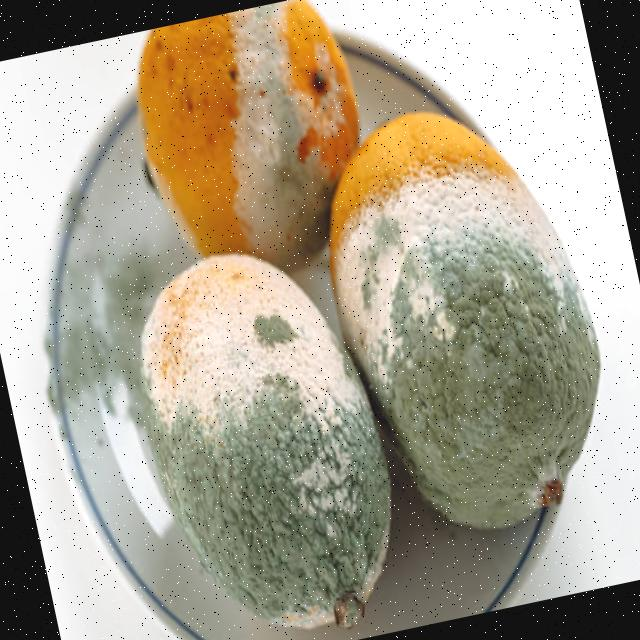Rotten: (298, 80, 634, 556), (116, 230, 415, 640)
